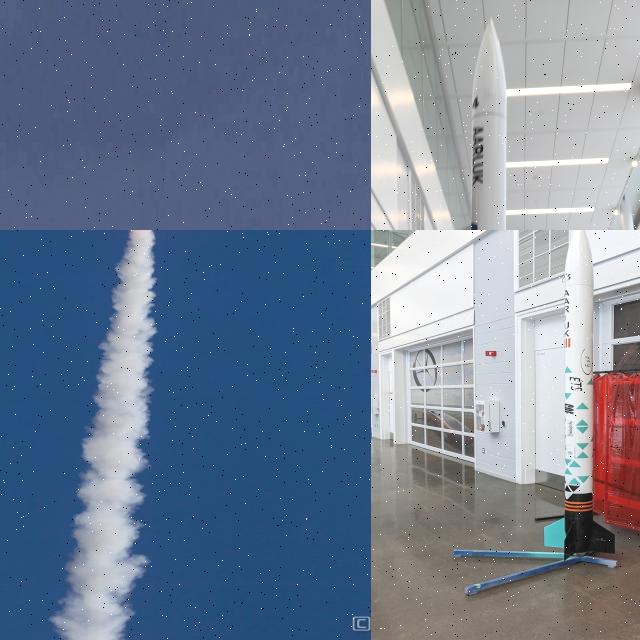Rocket: (544, 230, 615, 561), (470, 15, 507, 230)
